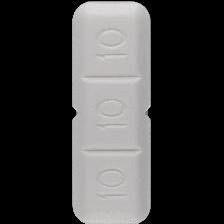0093-5200: (0, 0, 224, 224)
